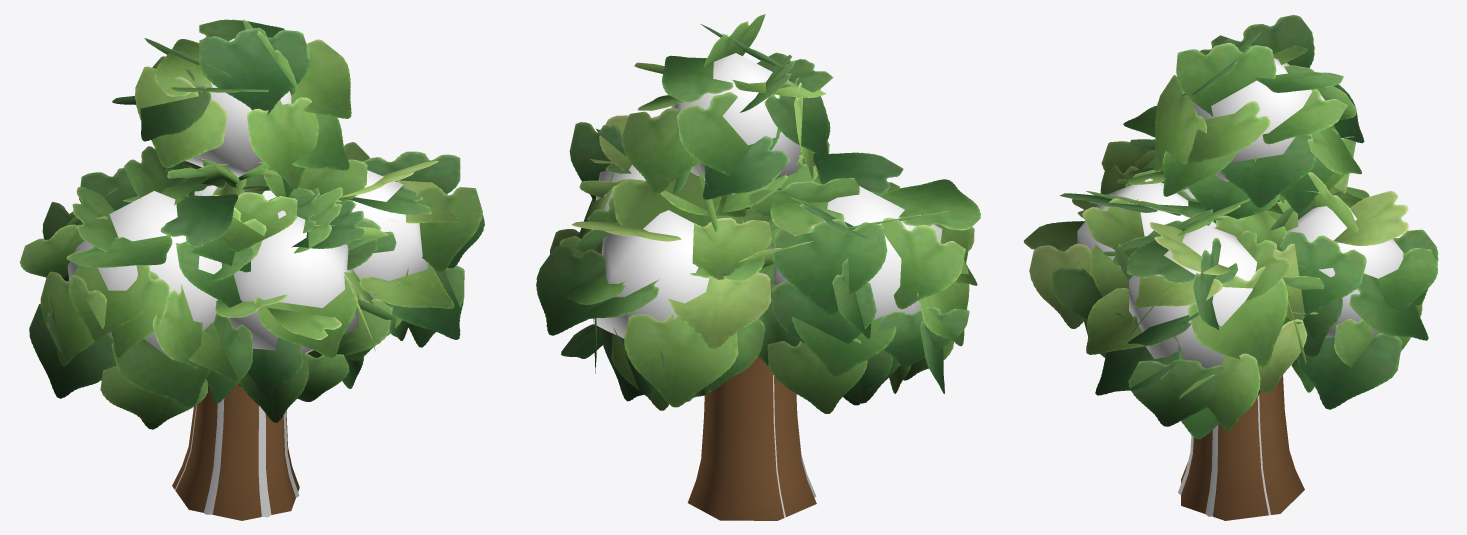
File: tree-round-summer.lod1.glb
3 views of the same model, side by side, from view 1: azimuth 30°, elevation 25°; view 2: azimuth 150°, elevation 25°; view 3: azimuth 270°, elevation 25° (orthographic).
Visible parts, largest first — view 1: Crown, Hull, Trunk, Stem; view 2: Crown, Hull, Trunk; view 3: Crown, Hull, Trunk, Stem.
Boxes of the visible parts, x1,y1,x2,y2 form: Crown: (19, 19, 484, 429); Hull: (67, 38, 428, 360); Trunk: (172, 383, 299, 520); Stem: (175, 398, 299, 517); Crown: (536, 14, 980, 413); Hull: (592, 53, 942, 338); Trunk: (687, 357, 816, 520); Crown: (1023, 15, 1438, 439); Hull: (1077, 58, 1403, 368); Trunk: (1181, 375, 1304, 520); Stem: (1178, 395, 1270, 516).
Size of the model in its own units: 2.77 by 2.92 by 2.47.
Materials: 4 (1 with a texture image).
